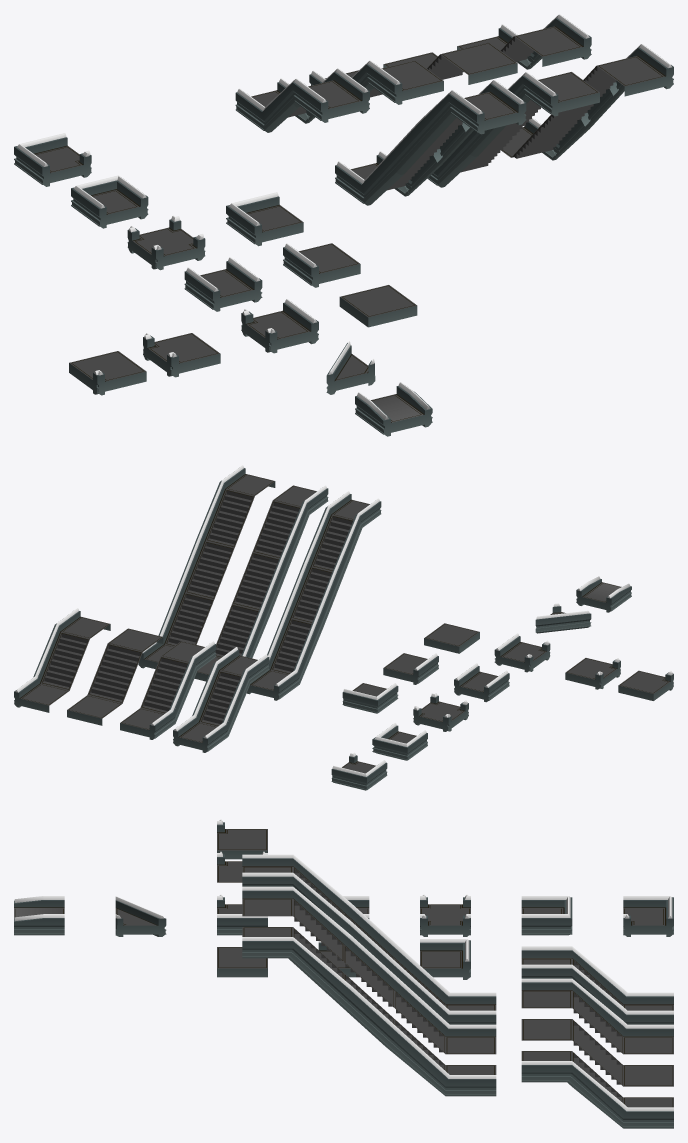
File: Puentes.fbx
The picture shows the model from 3 angles, top to bottom: view 1: azimuth 30°, elevation 25°; view 2: azimuth 150°, elevation 25°; view 3: azimuth 270°, elevation 25°; orthographic projection. The views are drawn at different scales.
Parts seen in each view (by area): view 1: PuenteEsq003, PuenteEsq01, PuenteEsq004, Puente016, Puente3Sentidos, Puente035, Puente01, PuenteInicio003, Puente4Sentidos, Puente3Sentidos001, Puente043, Puente039 (+21 smaller); view 2: Puente032, Puente014, Puente034, Puente013, Puente040, Puente038, Puente048, Puente042, Puente046, Puente050, Object002, Puente045 (+26 smaller); view 3: PuenteEsq003, PuenteEsq01, PuenteInicio003, PuenteEsq004, Puente046, Puente048, Puente038, Puente032, Puente040, Puente037, Puente042, Puente050 (+25 smaller).
Boxes of the visible parts, x1,y1,x2,y2 form: PuenteEsq003: (71,175,148,228); PuenteEsq01: (14,133,91,186); PuenteEsq004: (226,192,303,246); Puente016: (448,80,526,134); Puente3Sentidos: (241,299,318,353); Puente035: (292,68,369,122); Puente01: (184,257,262,311); PuenteInicio003: (355,382,432,436); Puente4Sentidos: (127,215,205,270); Puente3Sentidos001: (143,333,220,377); Puente043: (366,60,443,104); Puente039: (522,72,599,116); Puente032: (303,506,360,576); Puente014: (283,562,343,628); Puente034: (193,662,248,735); Puente013: (267,614,322,683); Puente040: (252,500,307,563); Puente038: (232,552,290,615); Puente048: (197,480,254,547); Puente042: (140,656,195,722); Puente046: (177,536,234,599); Puente050: (34,623,89,690); Object002: (87,643,142,703); Puente045: (159,588,213,646); PuenteEsq003: (521,896,572,935); PuenteEsq01: (623,896,673,936); PuenteInicio003: (14,896,64,935); PuenteEsq004: (420,939,470,979); Puente046: (335,973,401,1046); Puente048: (293,927,351,1000); Puente038: (344,935,402,1007); Puente032: (293,855,351,929); Puente040: (293,887,351,961); Puente037: (394,982,445,1053); Puente042: (572,979,623,1053); Puente050: (572,1051,623,1127).
Bounding box in the file's own units: 531 × 136 × 512.
Materials: 1 (1 with a texture image).
